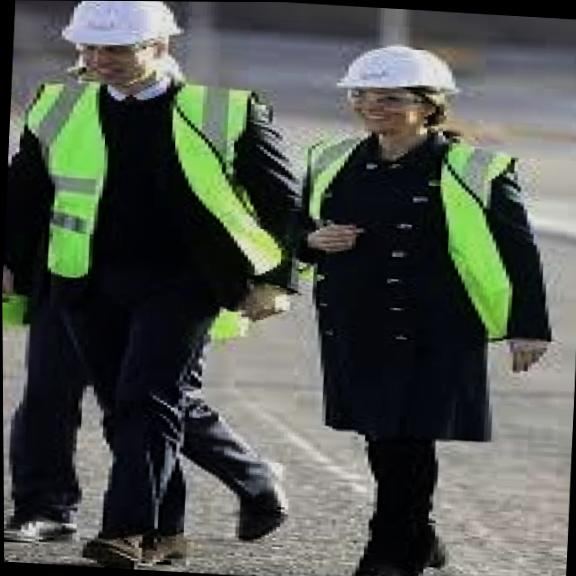safety_vest: (12, 73, 305, 293), (302, 121, 539, 331)
